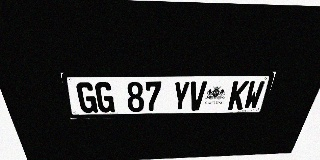7: (144, 81, 161, 112)
8: (126, 82, 144, 112)
G: (75, 82, 98, 113), (94, 82, 115, 113)
K: (227, 81, 249, 110)
V: (188, 81, 207, 111)
W: (243, 81, 265, 109)
Y: (172, 81, 190, 111)
